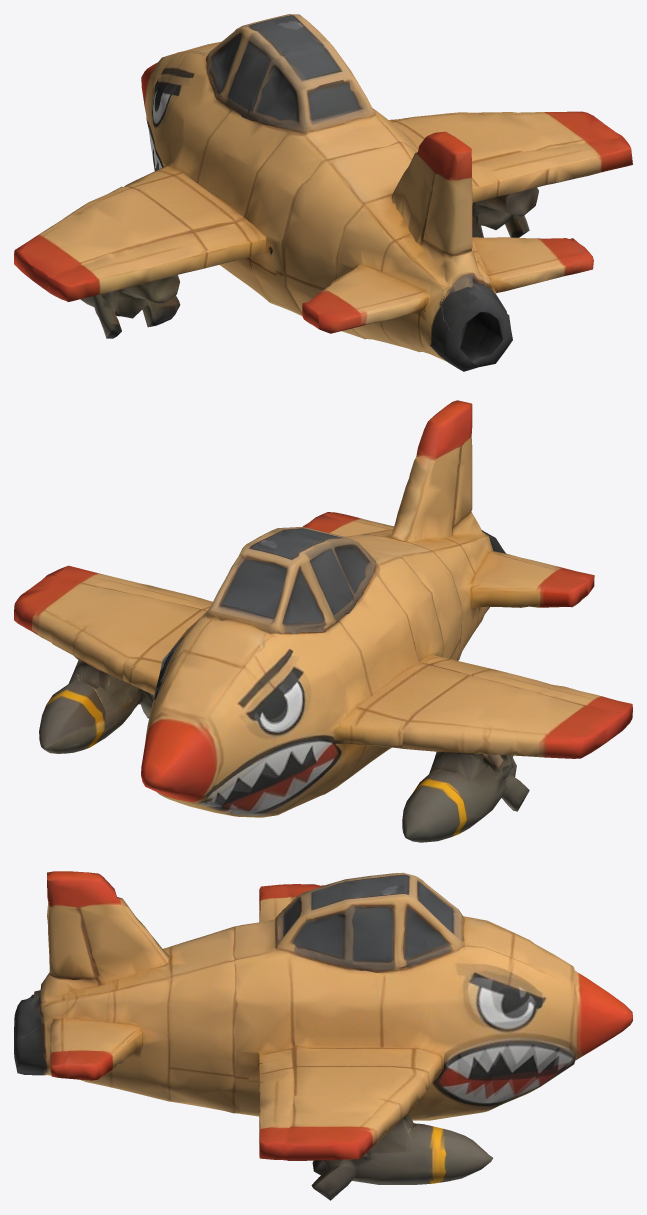
Rendered from airstrike_plane.glb.
3 views of the same model, one above another, from view 1: azimuth 30°, elevation 25°; view 2: azimuth 150°, elevation 25°; view 3: azimuth 270°, elevation 25° (orthographic). The views are drawn at different scales.
Parts seen in each view (by area): view 1: Shark_Plane; view 2: Shark_Plane; view 3: Shark_Plane.
Boxes of the visible parts, x1,y1,x2,y2 form: Shark_Plane: (14,14,632,371); Shark_Plane: (14,400,632,842); Shark_Plane: (14,871,632,1200).
Bounding box in the file's own units: 10.33 × 4.33 × 10.32.
1 material, 1 textured.
